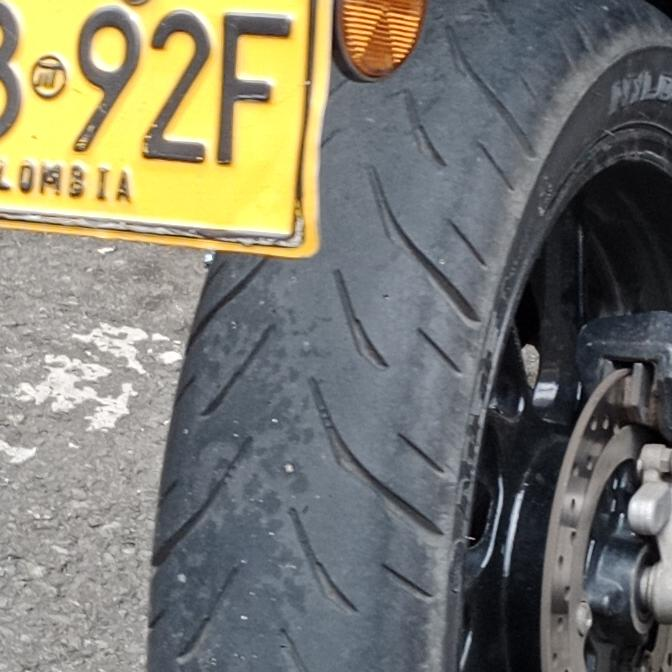plates: (0, 0, 332, 264)
